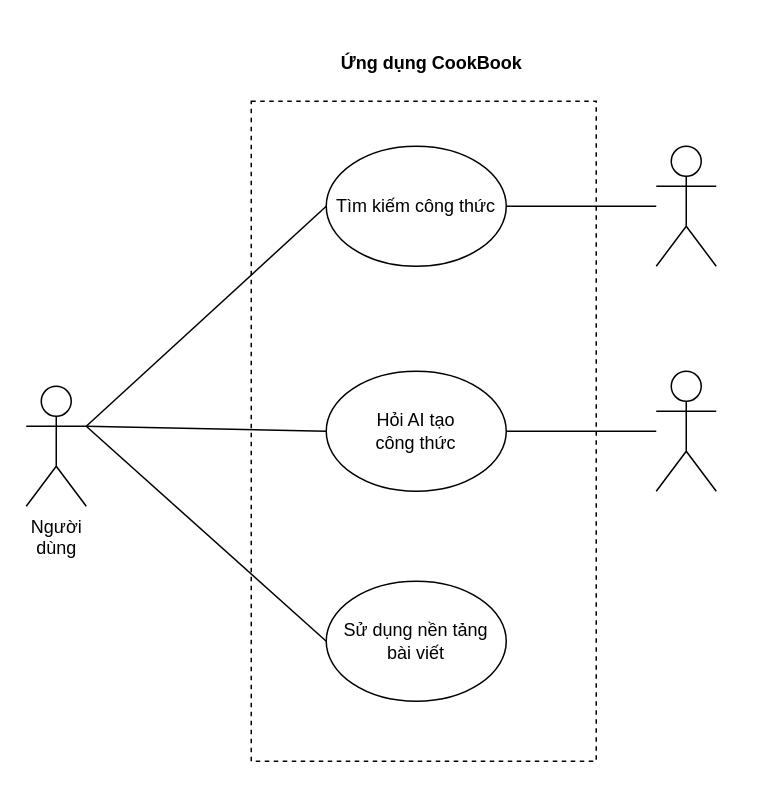
Some shapes in this 759 by 788 pixel diagram are drawn without their labels. The box of each missing label's shape, as (x1, y1, x2, y2) in pixels:
Gemini API: (655, 370, 716, 491)
TheMealDB API: (655, 145, 716, 266)
